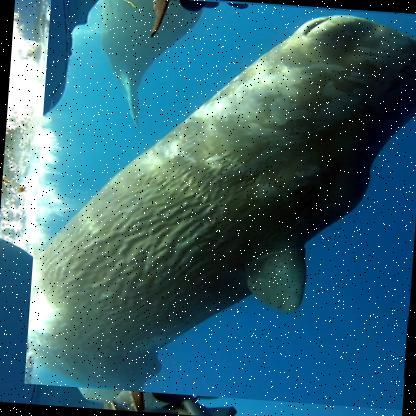sperm_whale: (23, 0, 415, 410)
